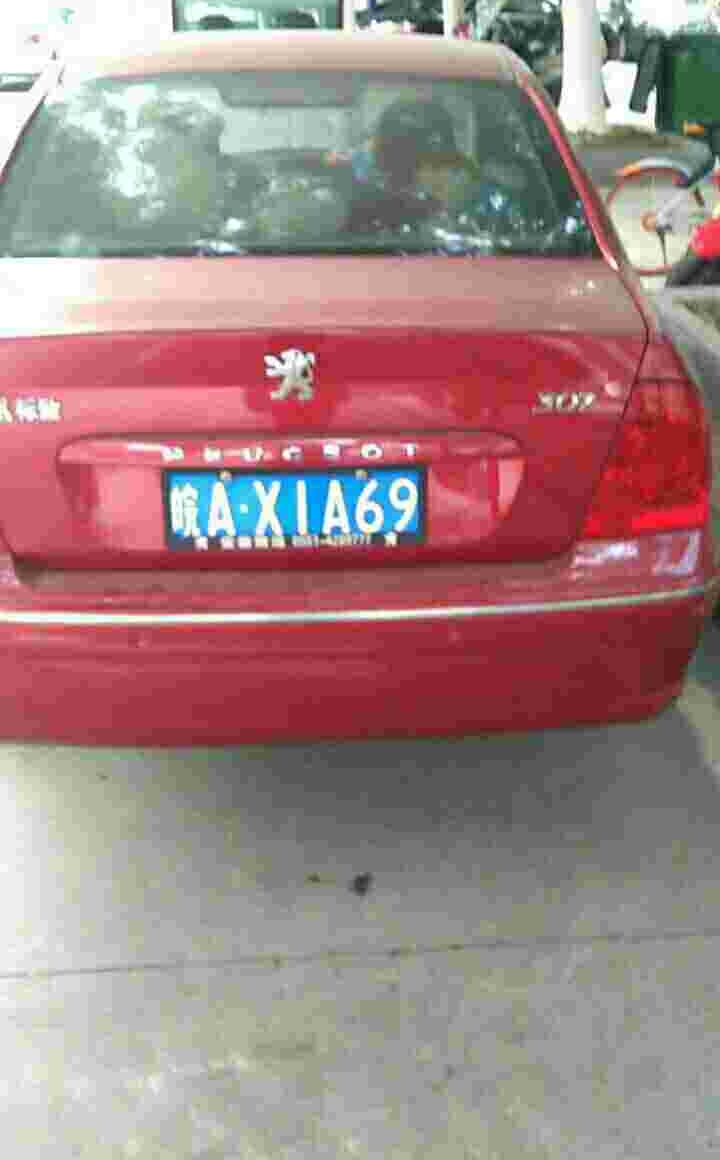plate: (165, 460, 433, 557)
